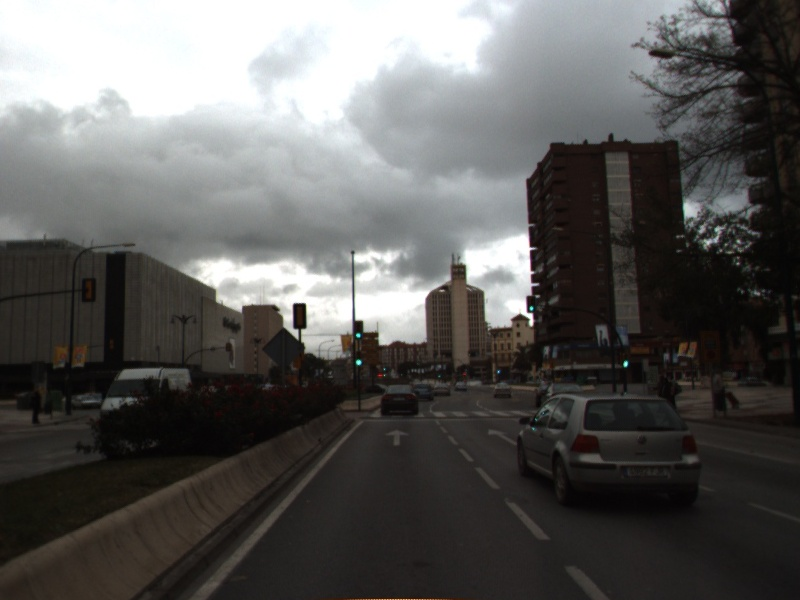STRAIGHT: (486, 426, 518, 446), (383, 427, 412, 447)
